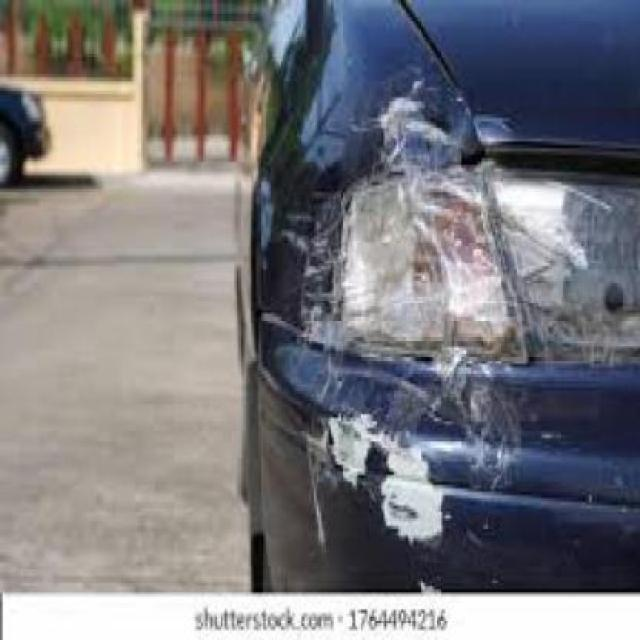Headlight-Damage: (294, 80, 533, 572)
